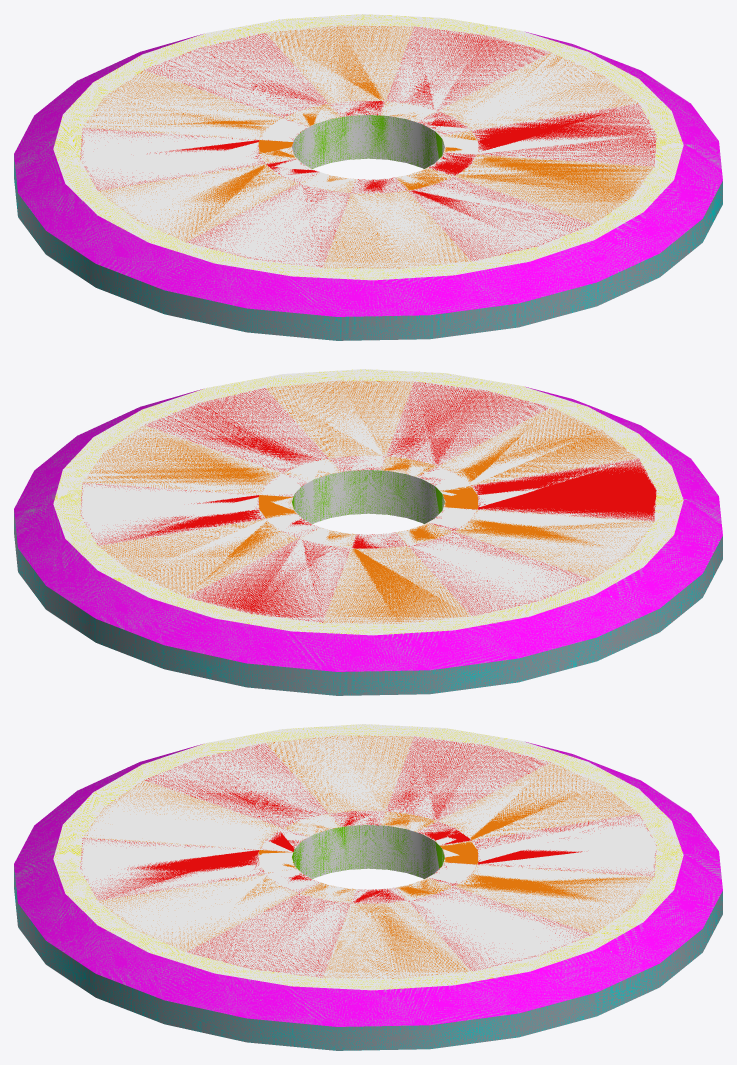
Rendered from roundPlatformWithCheckerboard.fbx.
3 renders of one model, top to bottom at view 1: azimuth 30°, elevation 25°; view 2: azimuth 150°, elevation 25°; view 3: azimuth 270°, elevation 25°, orthographic.
Parts seen in each view (by area): view 1: Model; view 2: Model; view 3: Model.
Part boxes in pixels (x1,y1,x2,y2): Model: (14, 14, 722, 340); Model: (14, 369, 722, 695); Model: (14, 724, 722, 1050).
Bounding box in the file's own units: 1549 × 106 × 1549.
